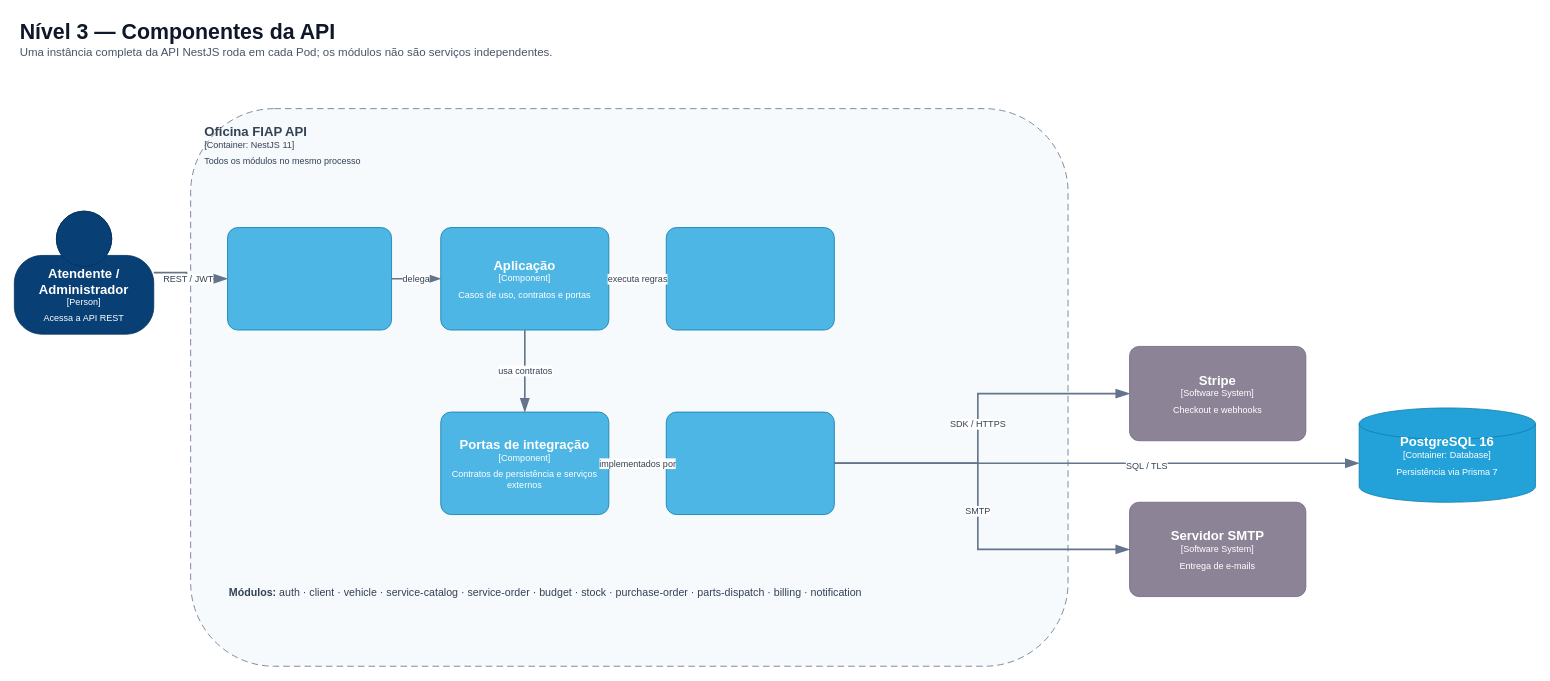
Image size: 1550x681. Some labels were removed from this diagram. Each missing label, with the centre of its shape:
"Adaptadores [Component] Prisma, Stripe, SMTP e integrações entre módulos" goes at point 749,463.
"Apresentação HTTP [Component] Controllers, DTOs, Swagger, guards" goes at point 309,278.
"Domínio [Component] Entidades, invariantes e regras" goes at point 749,278.
